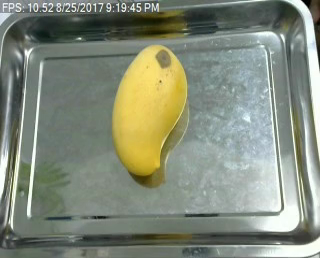Mango: (107, 41, 189, 173)
